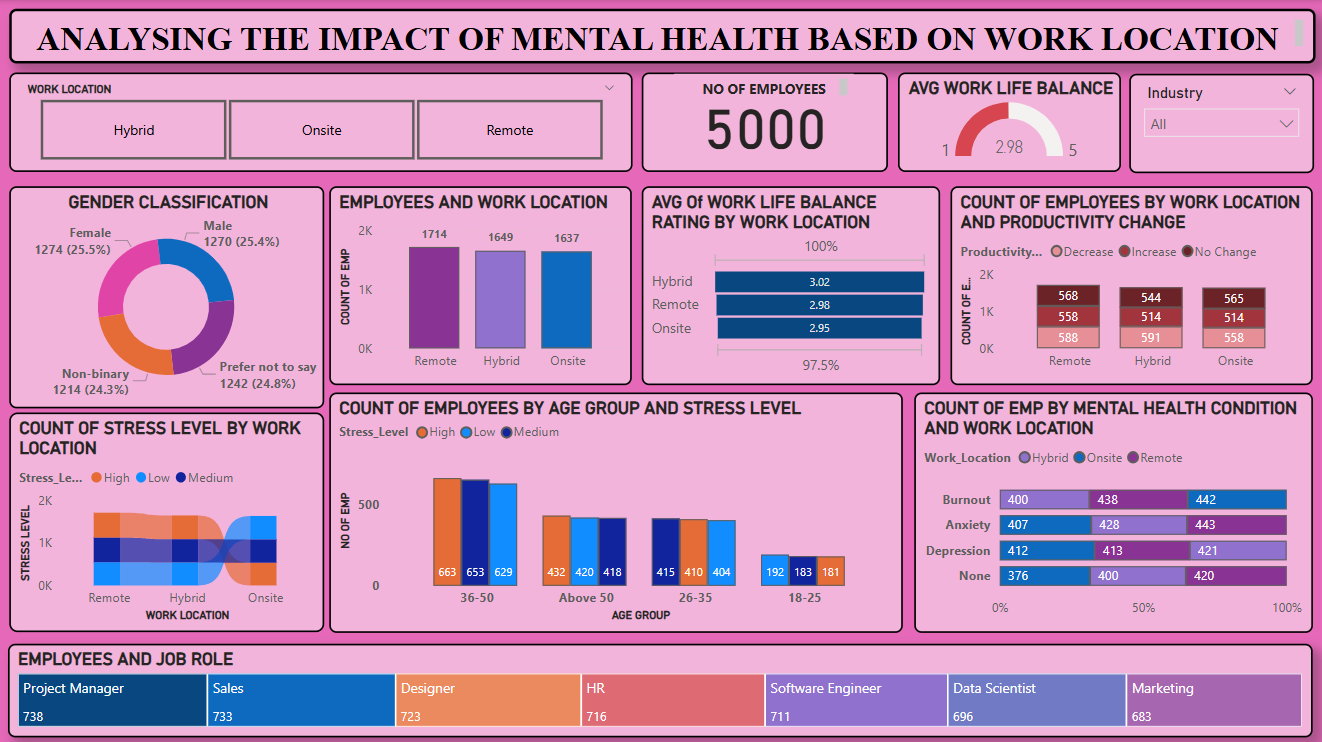

The page's visual inventory and layout, read from the dashboard file:
{"tool":"powerbi","page":{"name":"Page 3","canvas":[1280,720],"ordinal":1},"visuals":[{"type":"textbox","box":[10.9,8.4,1260.7,53.1],"z":0},{"type":"slicer","fields":{"Values":["Impact_of_Remote_Work_on_Mental_Health.Work_Location"]},"box":[11.2,70,601.2,96.2],"z":1000},{"type":"card","fields":{"Values":["Count(Impact_of_Remote_Work_on_Mental_Health.Employee_ID)"]},"box":[621.2,70,237.5,96.2],"z":2000},{"type":"donutChart","title":"GENDER CLASSIFICATION","fields":{"Category":["Impact_of_Remote_Work_on_Mental_Health.Gender"],"Y":["CountNonNull(Impact_of_Remote_Work_on_Mental_Health.Employee_ID)"]},"box":[10.9,179.8,304,214.7],"z":3000},{"type":"clusteredColumnChart","title":"EMPLOYEES AND WORK LOCATION","fields":{"Category":["Impact_of_Remote_Work_on_Mental_Health.Work_Location"],"Y":["CountNonNull(Impact_of_Remote_Work_on_Mental_Health.Employee_ID)"]},"box":[319.7,179.8,292,191.8],"z":4000},{"type":"funnel","title":"AVG Of WORK LIFE BALANCE RATING BY WORK LOCATION","fields":{"Category":["Impact_of_Remote_Work_on_Mental_Health.Work_Location"],"Y":["Avg(Impact_of_Remote_Work_on_Mental_Health.Work_Life_Balance_Rating)"]},"box":[621.3,179.8,288.3,191.8],"z":5000},{"type":"hundredPercentStackedBarChart","title":"COUNT OF EMP BY MENTAL HEALTH CONDITION AND WORK LOCATION","fields":{"Category":["Impact_of_Remote_Work_on_Mental_Health.Mental_Health_Condition"],"Series":["Impact_of_Remote_Work_on_Mental_Health.Work_Location"],"Y":["CountNonNull(Impact_of_Remote_Work_on_Mental_Health.Employee_ID)"]},"box":[884.3,378.8,384.9,231.6],"z":6000},{"type":"treemap","title":"EMPLOYEES AND JOB ROLE","fields":{"Group":["Impact_of_Remote_Work_on_Mental_Health.Job_Role"],"Values":["CountNonNull(Impact_of_Remote_Work_on_Mental_Health.Employee_ID)"]},"box":[9.7,621.3,1259.5,90.5],"z":7000},{"type":"textbox","box":[652.7,71.2,172.5,26.5],"z":8000},{"type":"ribbonChart","title":"COUNT OF STRESS LEVEL BY WORK LOCATION","fields":{"Category":["Impact_of_Remote_Work_on_Mental_Health.Work_Location"],"Series":["Impact_of_Remote_Work_on_Mental_Health.Stress_Level"],"Y":["CountNonNull(Impact_of_Remote_Work_on_Mental_Health.Stress_Level)"]},"box":[10.9,398.1,304,212.3],"z":9000},{"type":"clusteredColumnChart","title":"COUNT OF EMPLOYEES BY AGE GROUP AND STRESS LEVEL","fields":{"Category":["Impact_of_Remote_Work_on_Mental_Health.age group"],"Y":["CountNonNull(Impact_of_Remote_Work_on_Mental_Health.Employee_ID)"],"Series":["Impact_of_Remote_Work_on_Mental_Health.Stress_Level"]},"box":[319.7,378.8,553.8,231.6],"z":10000},{"type":"gauge","title":"AVG WORK LIFE BALANCE","fields":{"Y":["Avg(Impact_of_Remote_Work_on_Mental_Health.Work_Life_Balance_Rating)"],"MinValue":["Min(Impact_of_Remote_Work_on_Mental_Health.Work_Life_Balance_Rating)1"],"MaxValue":["Max(Impact_of_Remote_Work_on_Mental_Health.Work_Life_Balance_Rating)2"]},"box":[868.8,70,215,96.2],"z":11000},{"type":"slicer","fields":{"Values":["Impact_of_Remote_Work_on_Mental_Health.Industry"]},"box":[1091.2,71.2,178.8,96.2],"z":12000},{"type":"columnChart","title":"COUNT OF EMPLOYEES BY WORK LOCATION AND PRODUCTIVITY CHANGE","fields":{"Category":["Impact_of_Remote_Work_on_Mental_Health.Work_Location"],"Y":["CountNonNull(Impact_of_Remote_Work_on_Mental_Health.Employee_ID)"],"Series":["Impact_of_Remote_Work_on_Mental_Health.Productivity_Change"]},"box":[919.3,179.8,349.9,191.8],"z":13000}]}

Visuals, with their boxes in screenshot pixels (x1, y1, x2, y2), scaled from the page's 1280x720 canvas onto the 1322x742 screenshot:
textbox: [left=11, top=9, right=1313, bottom=63]
slicer - Impact_of_Remote_Work_on_Mental_Health.Work_Location: [left=12, top=72, right=632, bottom=171]
card - Count(Impact_of_Remote_Work_on_Mental_Health.Employee_ID): [left=642, top=72, right=887, bottom=171]
"GENDER CLASSIFICATION" donutChart: [left=11, top=185, right=325, bottom=407]
"EMPLOYEES AND WORK LOCATION" clusteredColumnChart: [left=330, top=185, right=632, bottom=383]
"AVG Of WORK LIFE BALANCE RATING BY WORK LOCATION" funnel: [left=642, top=185, right=939, bottom=383]
"COUNT OF EMP BY MENTAL HEALTH CONDITION AND WORK LOCATION" hundredPercentStackedBarChart: [left=913, top=390, right=1311, bottom=629]
"EMPLOYEES AND JOB ROLE" treemap: [left=10, top=640, right=1311, bottom=734]
textbox: [left=674, top=73, right=852, bottom=101]
"COUNT OF STRESS LEVEL BY WORK LOCATION" ribbonChart: [left=11, top=410, right=325, bottom=629]
"COUNT OF EMPLOYEES BY AGE GROUP AND STRESS LEVEL" clusteredColumnChart: [left=330, top=390, right=902, bottom=629]
"AVG WORK LIFE BALANCE" gauge: [left=897, top=72, right=1119, bottom=171]
slicer - Impact_of_Remote_Work_on_Mental_Health.Industry: [left=1127, top=73, right=1312, bottom=173]
"COUNT OF EMPLOYEES BY WORK LOCATION AND PRODUCTIVITY CHANGE" columnChart: [left=949, top=185, right=1311, bottom=383]
